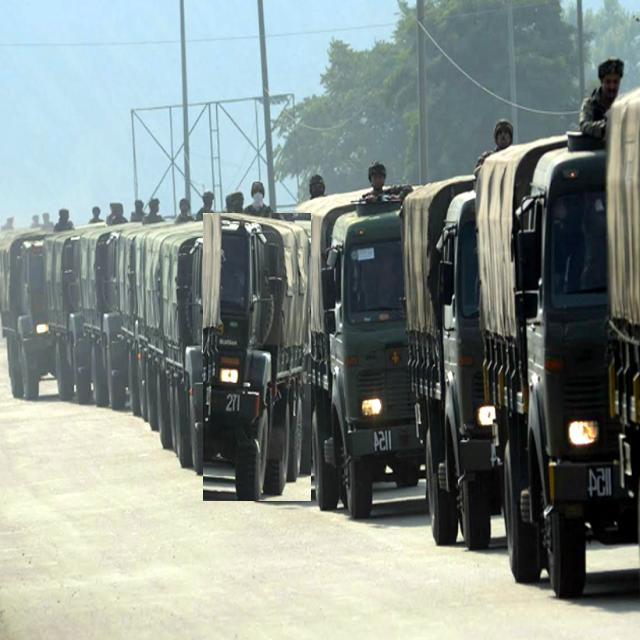truck: (475, 137, 635, 597), (291, 191, 421, 518), (401, 175, 495, 549), (203, 214, 310, 501), (0, 229, 54, 399)
